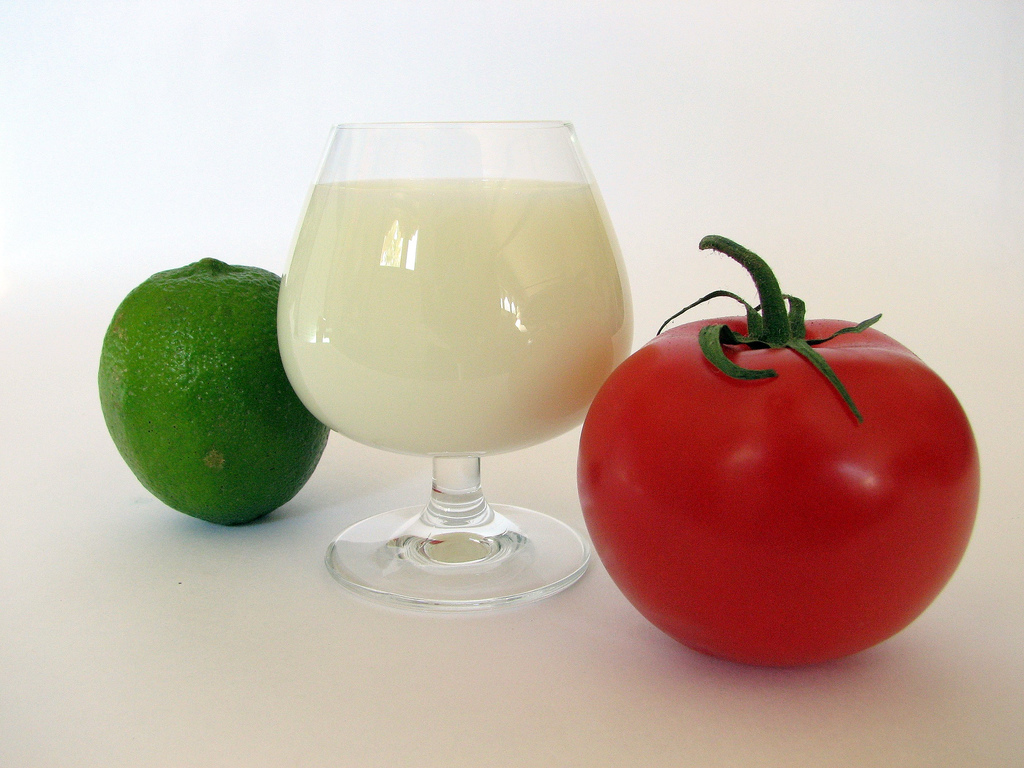glass of milk: (275, 117, 623, 657)
